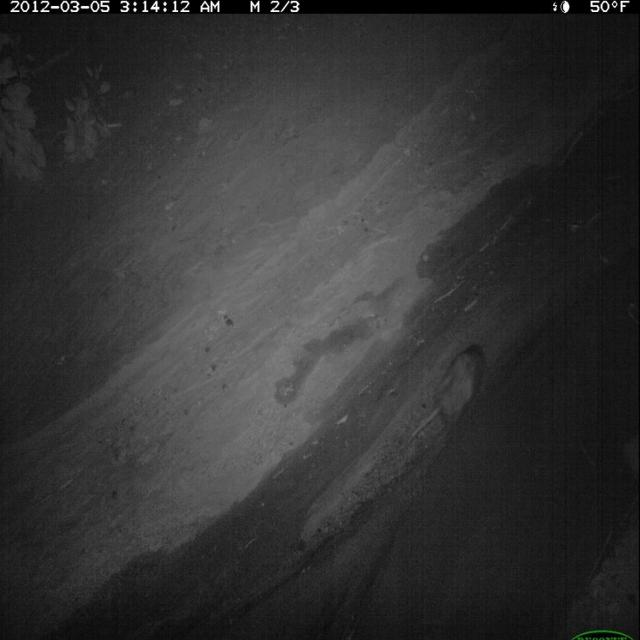opossum: (402, 340, 490, 452)
